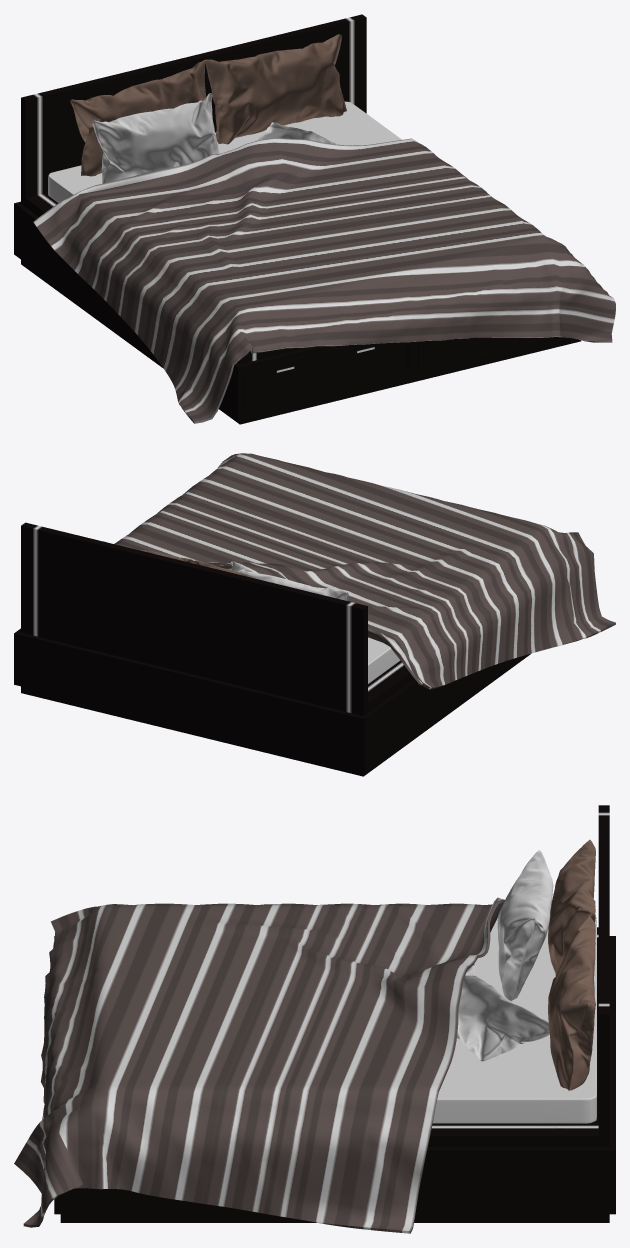
Rendered from Bed.FBX.
3 views of the same model, one above another, from view 1: azimuth 30°, elevation 25°; view 2: azimuth 150°, elevation 25°; view 3: azimuth 270°, elevation 25° (orthographic). The views are drawn at different scales.
Visible parts, largest first — view 1: Bed; view 2: Bed; view 3: Bed.
Boxes of the visible parts, x1,y1,x2,y2 form: Bed: (14, 14, 615, 424); Bed: (14, 453, 615, 776); Bed: (14, 805, 615, 1233).
Bounding box in the file's own units: 85.43 × 33.12 × 86.36.
Materials: 1 (1 with a texture image).
